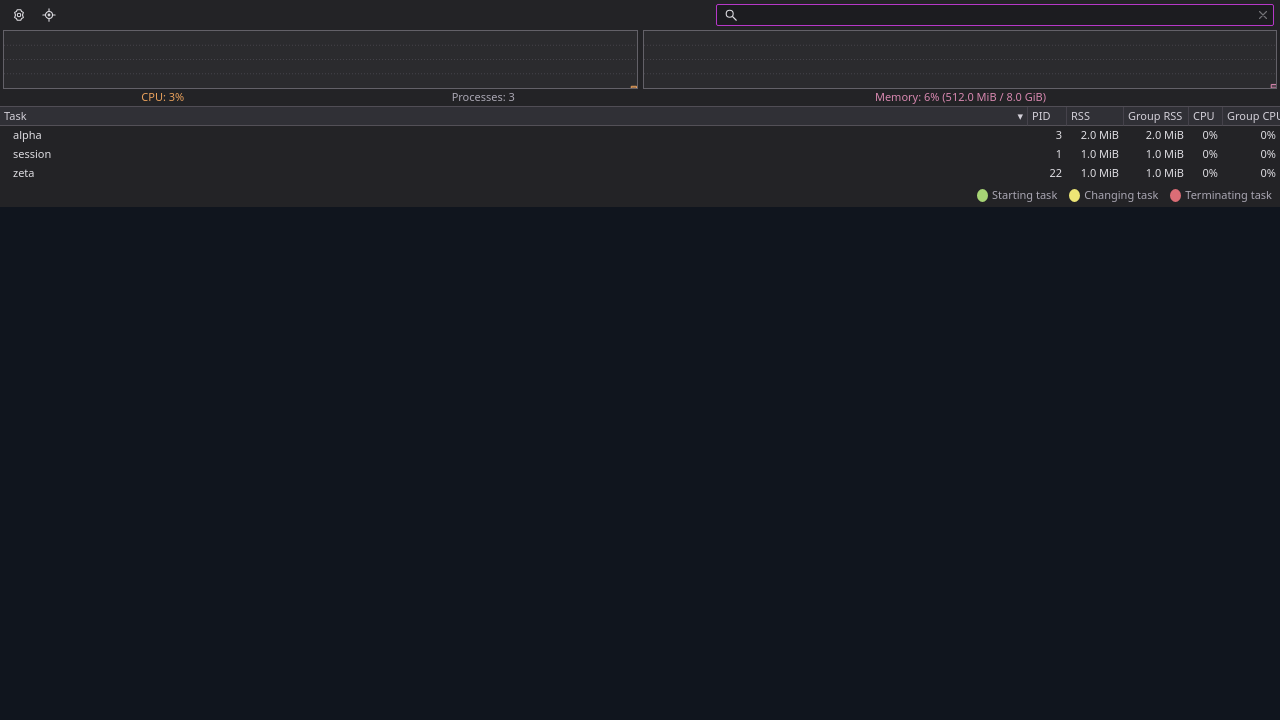
requires confirmation, checks permissions, preserves failed confirmation and retries
Expected: the text "alpha" is shown, x1=0 y1=126 x2=1027 y2=145
Right-click the text "session".
right_click(32, 154)  # box x1=0 y1=145 x2=1027 y2=164
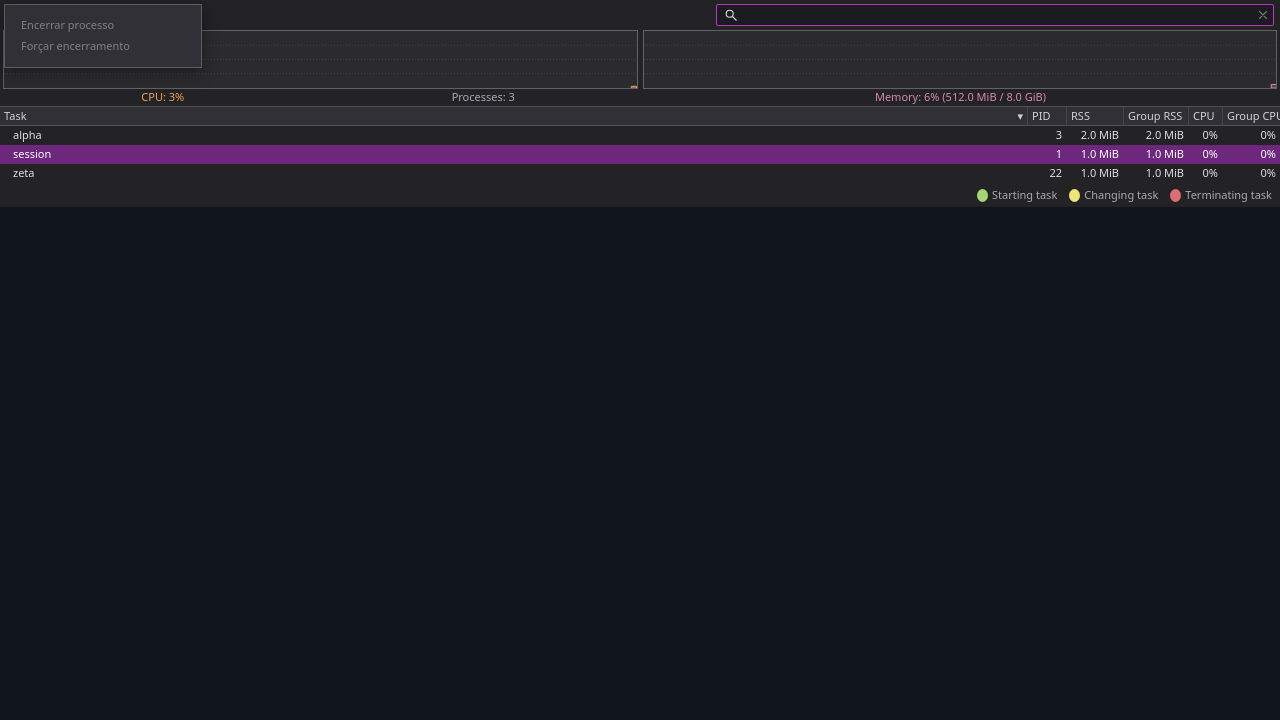
Expected: the menu item "Encerrar processo" is disabled, x1=15 y1=15 x2=191 y2=36
Press the mouse on the element that starts with "CPU:" at (640, 104), box x1=0 y1=0 x2=1279 y2=207
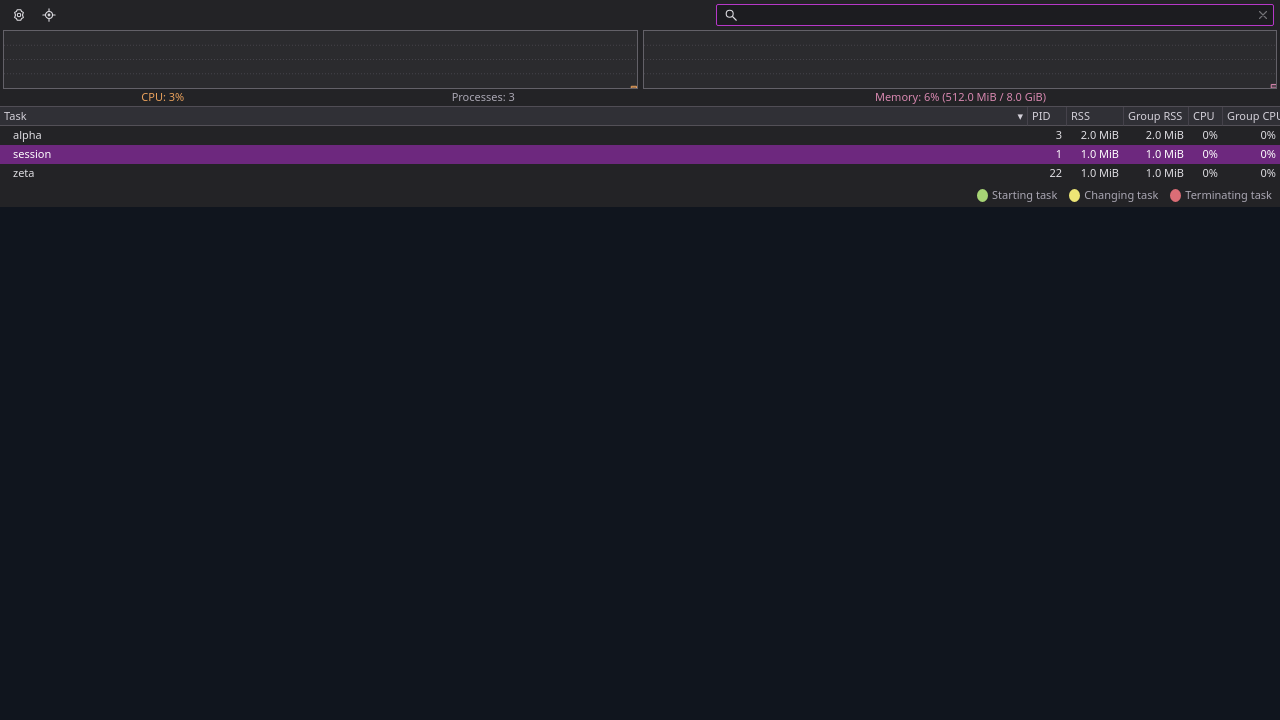
Right-click the text "alpha".
right_click(27, 135)  # box x1=0 y1=126 x2=1027 y2=145
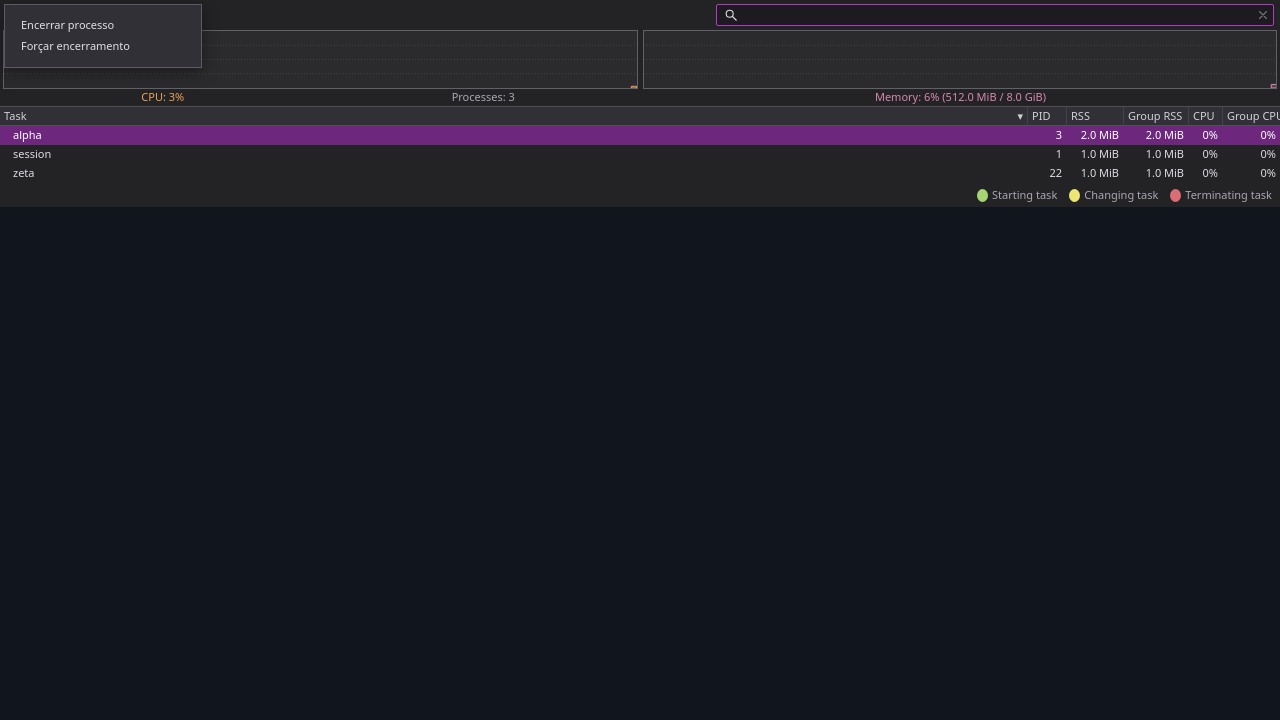
Click the menu item "Encerrar processo".
click(103, 25)  # box x1=15 y1=15 x2=191 y2=36
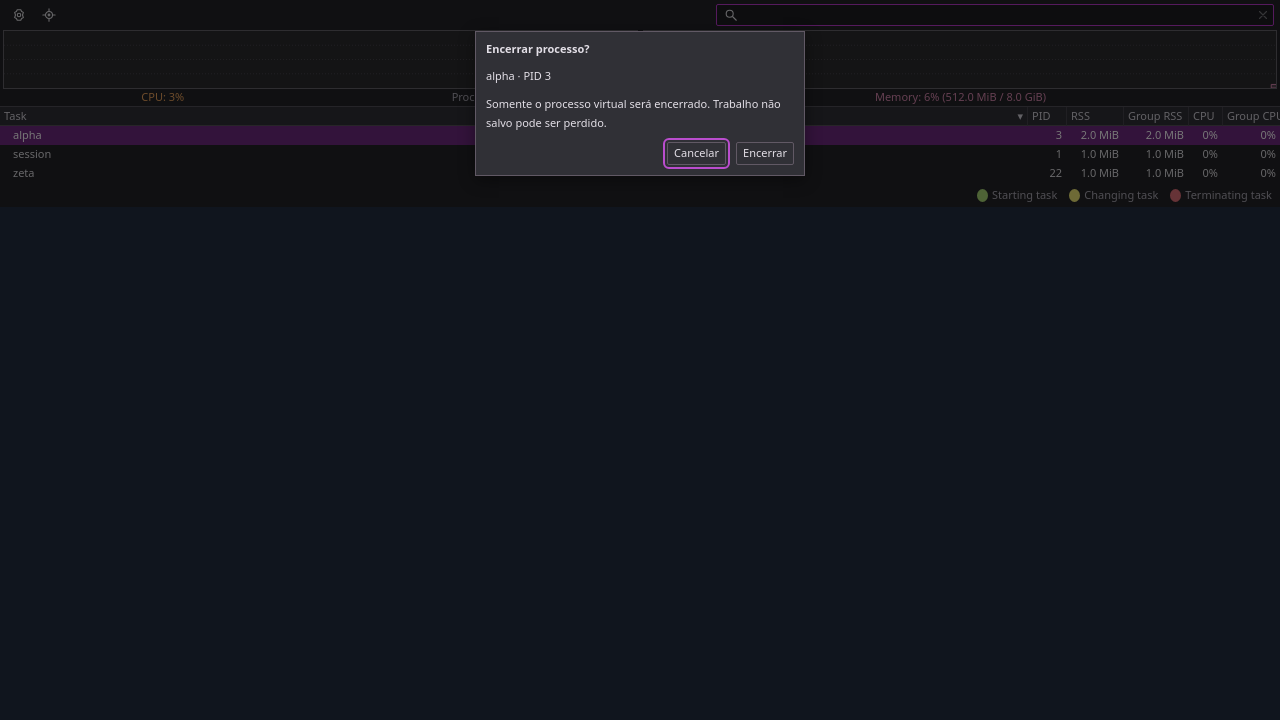
Click the button "Encerrar".
click(765, 153)  # box x1=736 y1=142 x2=794 y2=164
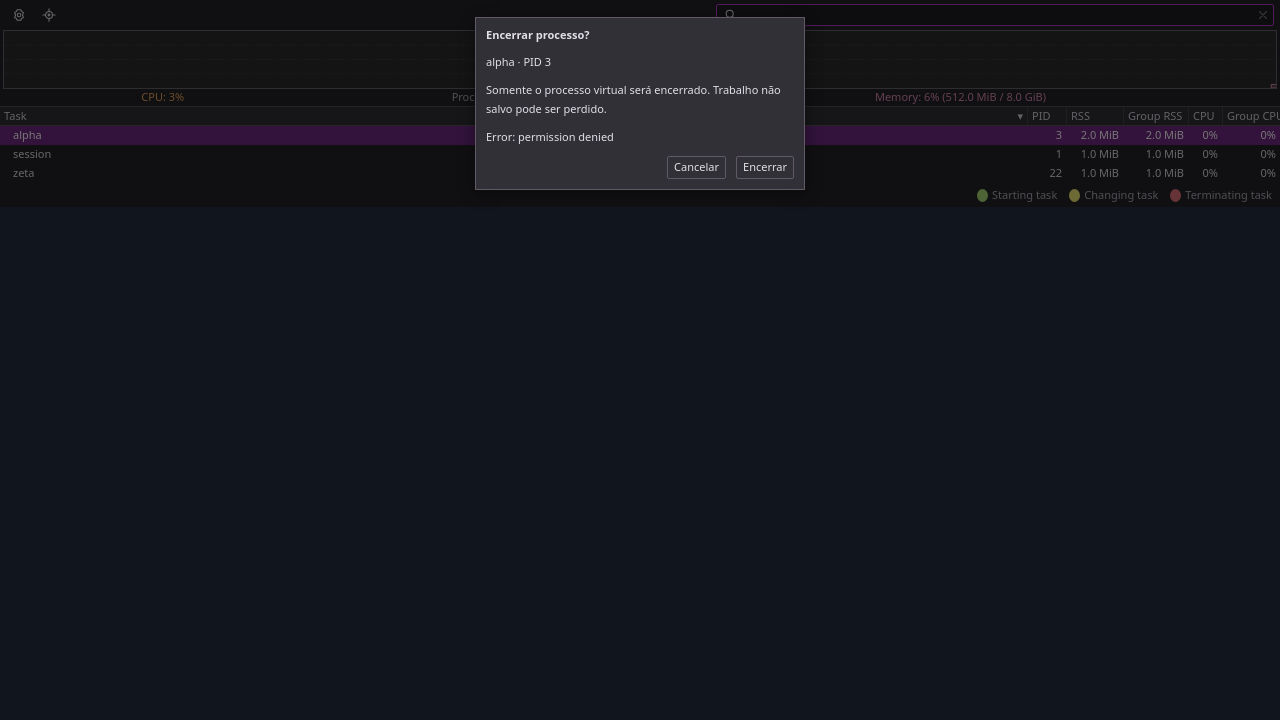
Expected: the dialog is shown, x1=475 y1=17 x2=805 y2=190
Expected: the message "Error: permission denied" is shown, x1=486 y1=129 x2=614 y2=144
Click the button "Encerrar".
click(765, 167)  # box x1=736 y1=156 x2=794 y2=179
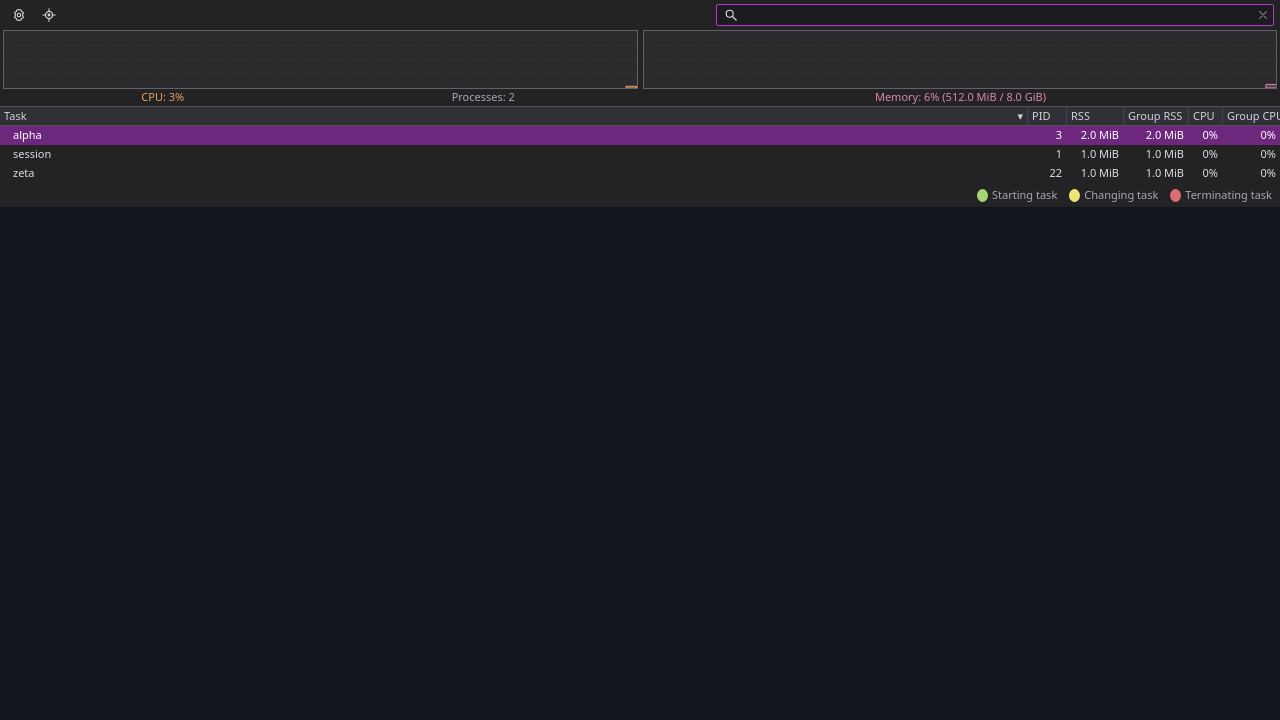
Expected: the dialog is gone
